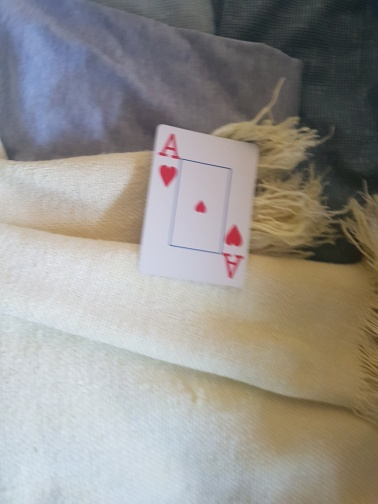ace: (140, 122, 262, 292)
